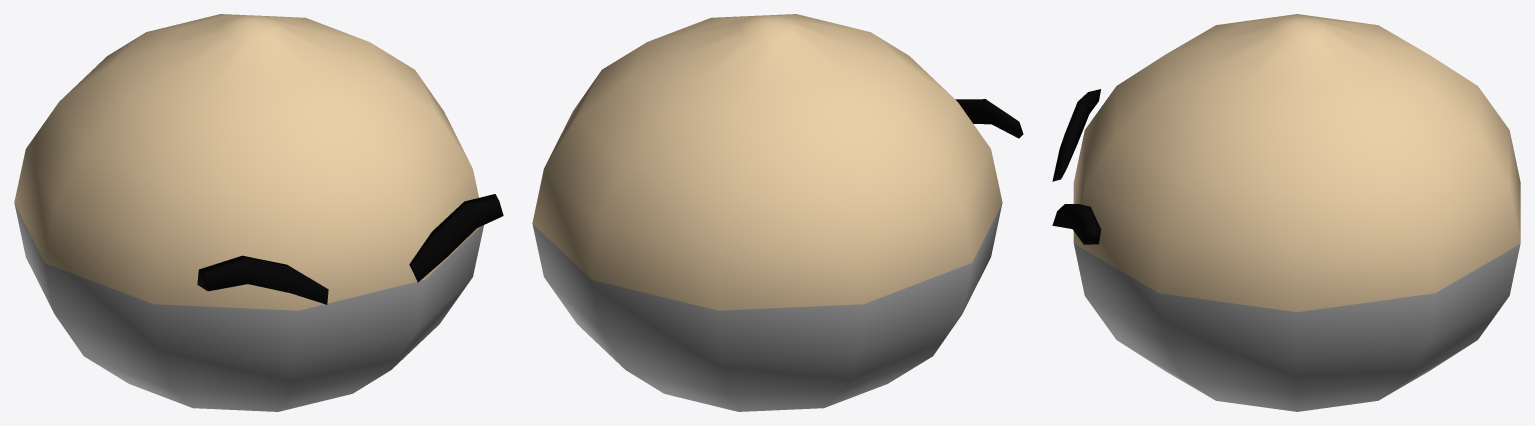
Rendered from skin_head_2.fbx.
The picture shows the model from 3 angles, left to right: view 1: azimuth 30°, elevation 25°; view 2: azimuth 150°, elevation 25°; view 3: azimuth 270°, elevation 25°; orthographic projection.
Visible parts, largest first — view 1: polySurface4; view 2: polySurface4; view 3: polySurface4.
Boxes of the visible parts, <box> form: polySurface4: <box>14,14,503,411</box>; polySurface4: <box>532,14,1023,411</box>; polySurface4: <box>1052,14,1520,411</box>.
Bounding box in the file's own units: 57.86 × 49.53 × 57.67.
